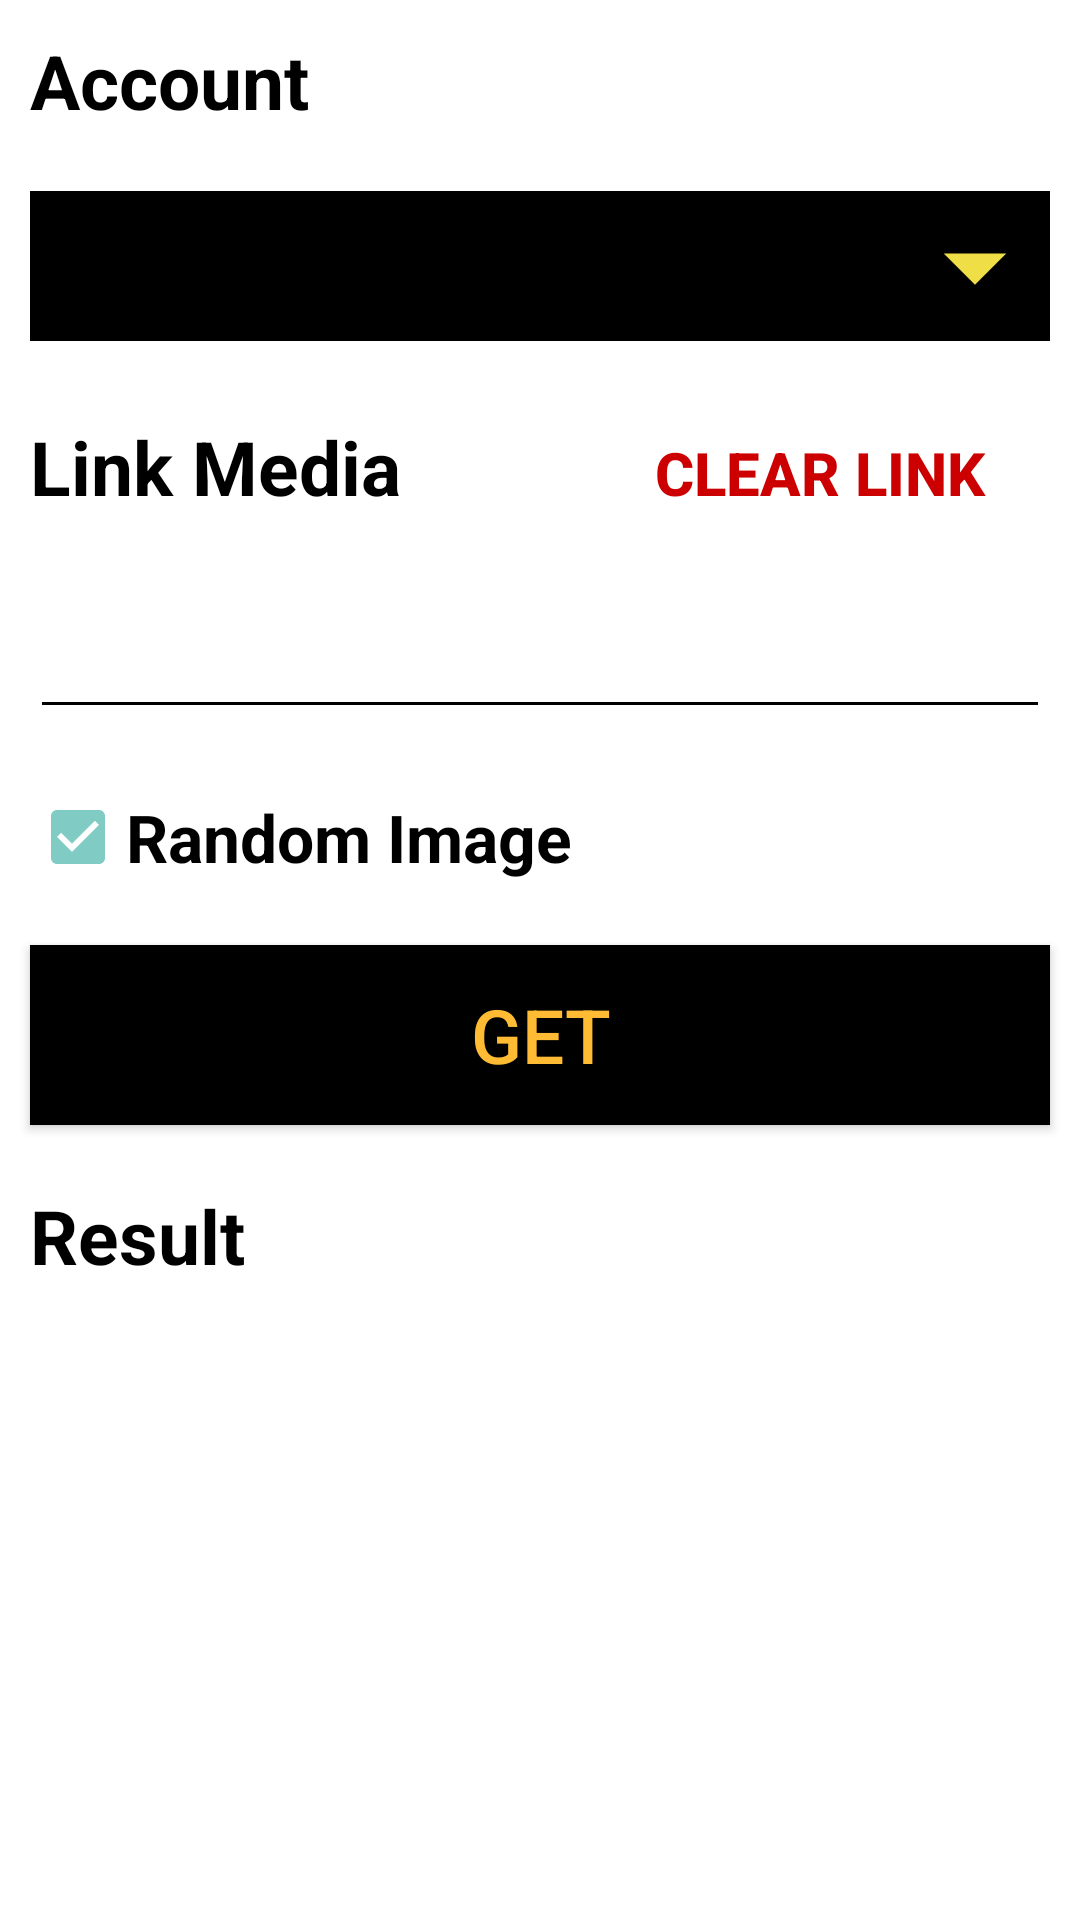

Named icons in this screenshot (1080*1920) and their bounding boxes, (x1, y1, x2, y2):
arrow drop down: (900, 191, 1050, 341)
